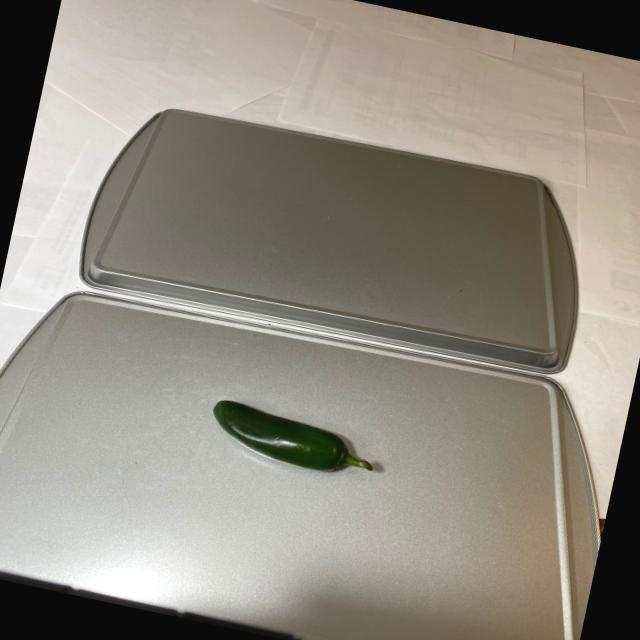chilli: (191, 383, 405, 491)
